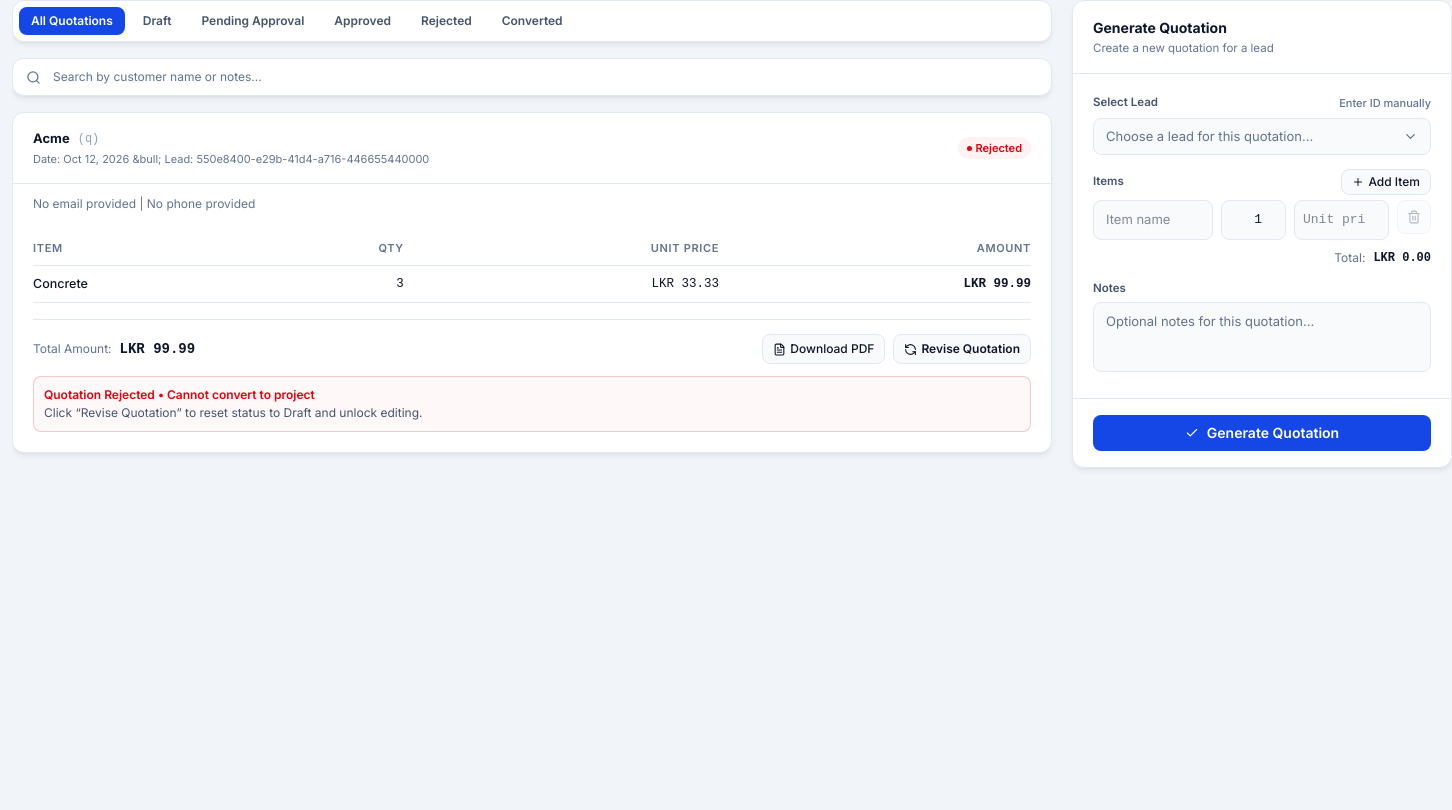
Test: Quotation dashboard interactions › revises only rejected quotations
Check: the text "Acme" is shown, box [33,130,70,146]
Click the button with aria-label "Revise quotation q": x=962, y=349 [893,334,1031,364]
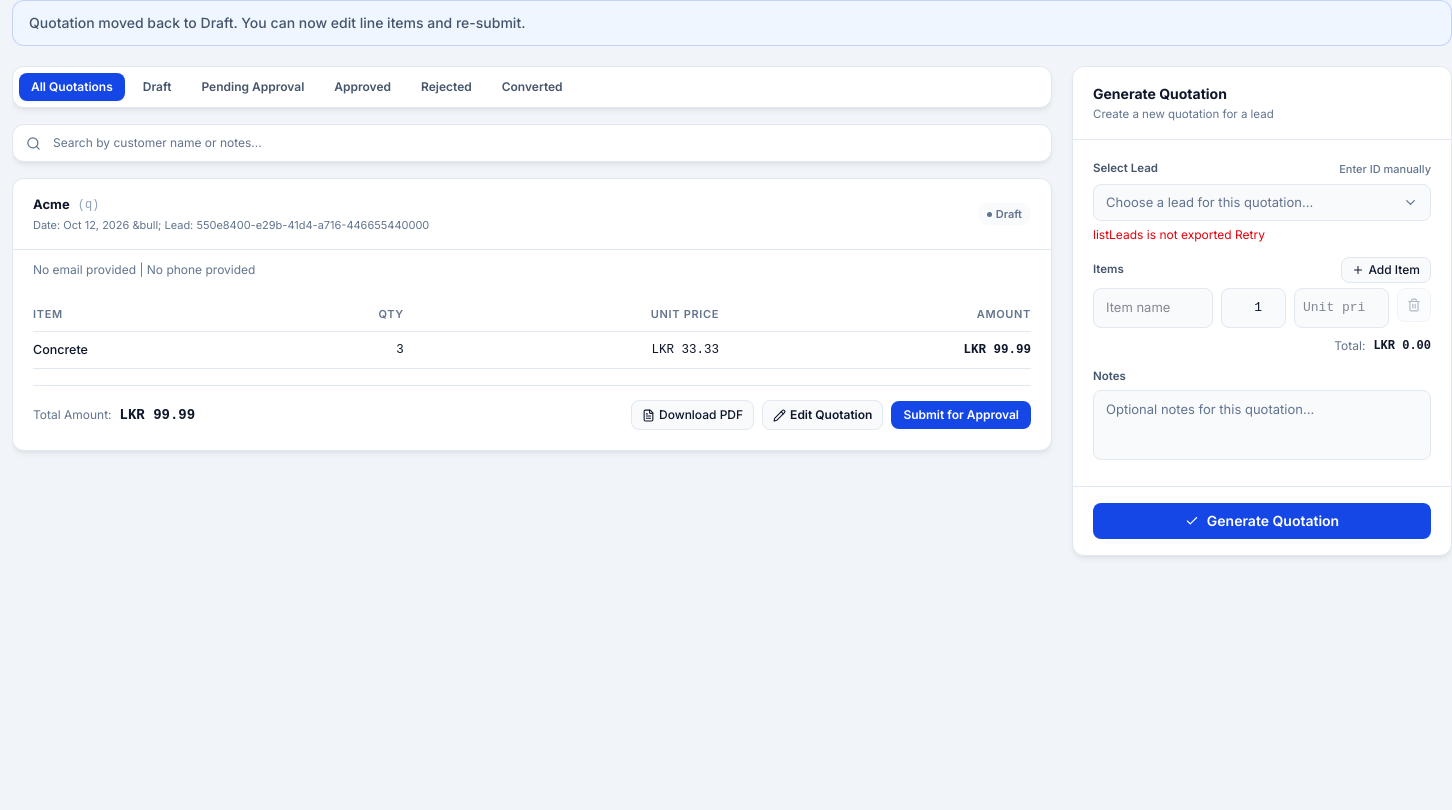
Check: the button with aria-label "Submit quotation q for approval" is shown, box [891,401,1031,429]
